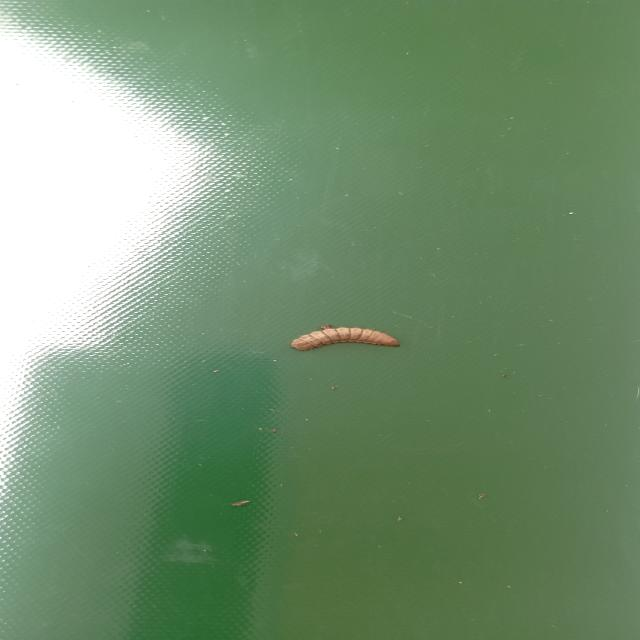Maggot: (291, 325, 399, 353)
